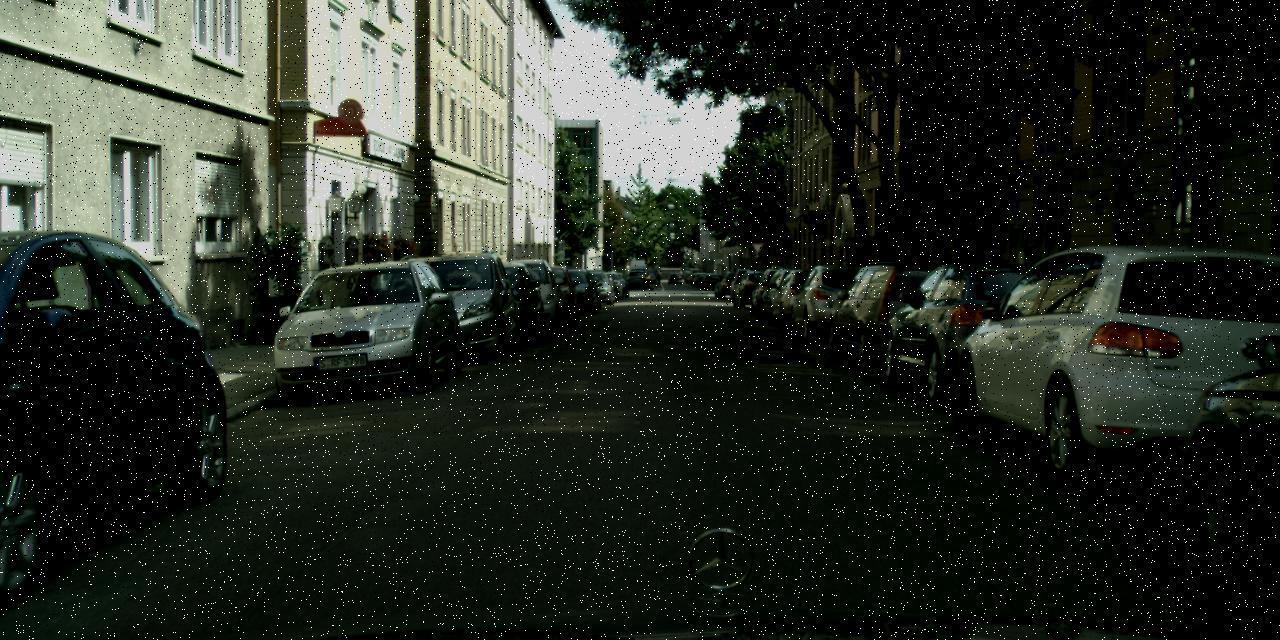ped: (654, 270, 662, 290)
